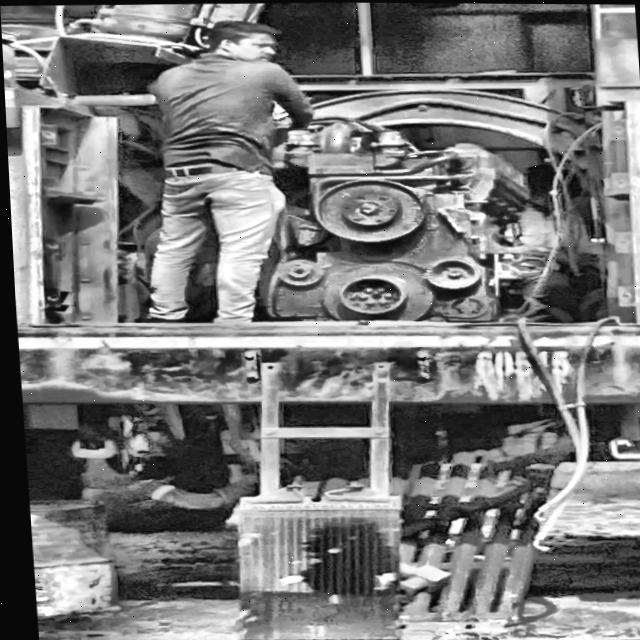dump_truck: (0, 0, 640, 629)
